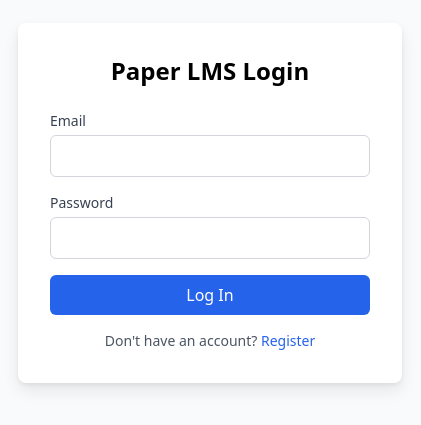
Test: LoginPage › error displayed on login failure
The width and height of the screenshot is (421, 425).
In the field: {"x": 210, "y": 156} [50, 135, 370, 177], type "bad@example.com"
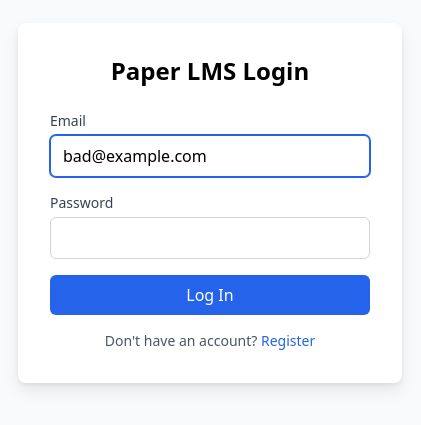
In the password field: {"x": 210, "y": 238} [50, 217, 370, 259], type "wrong"
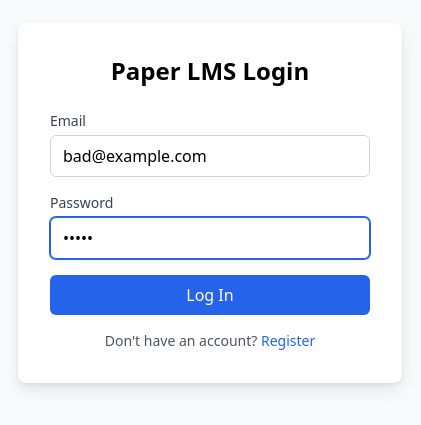
Click the button "Log In": {"x": 210, "y": 295} [50, 275, 370, 315]
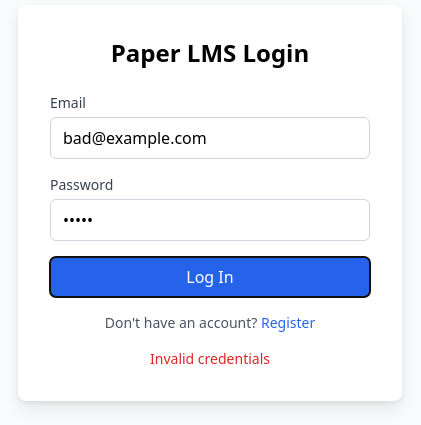
Now the text "Invalid credentials" is shown, box [150, 349, 270, 368]
